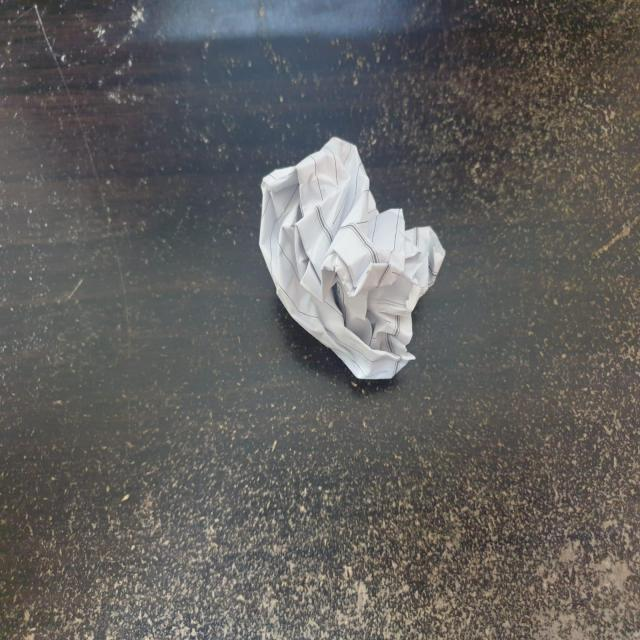cardboard paper: (258, 136, 443, 377)
